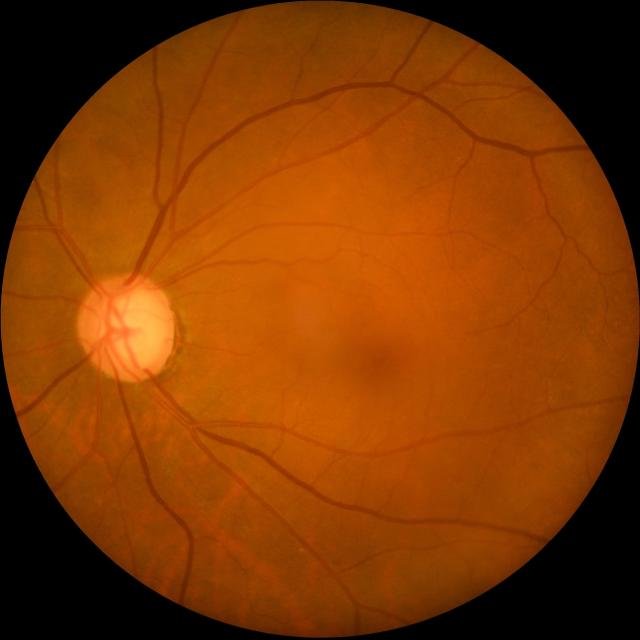OC: (104, 290, 163, 368)
OD: (76, 273, 176, 382)
